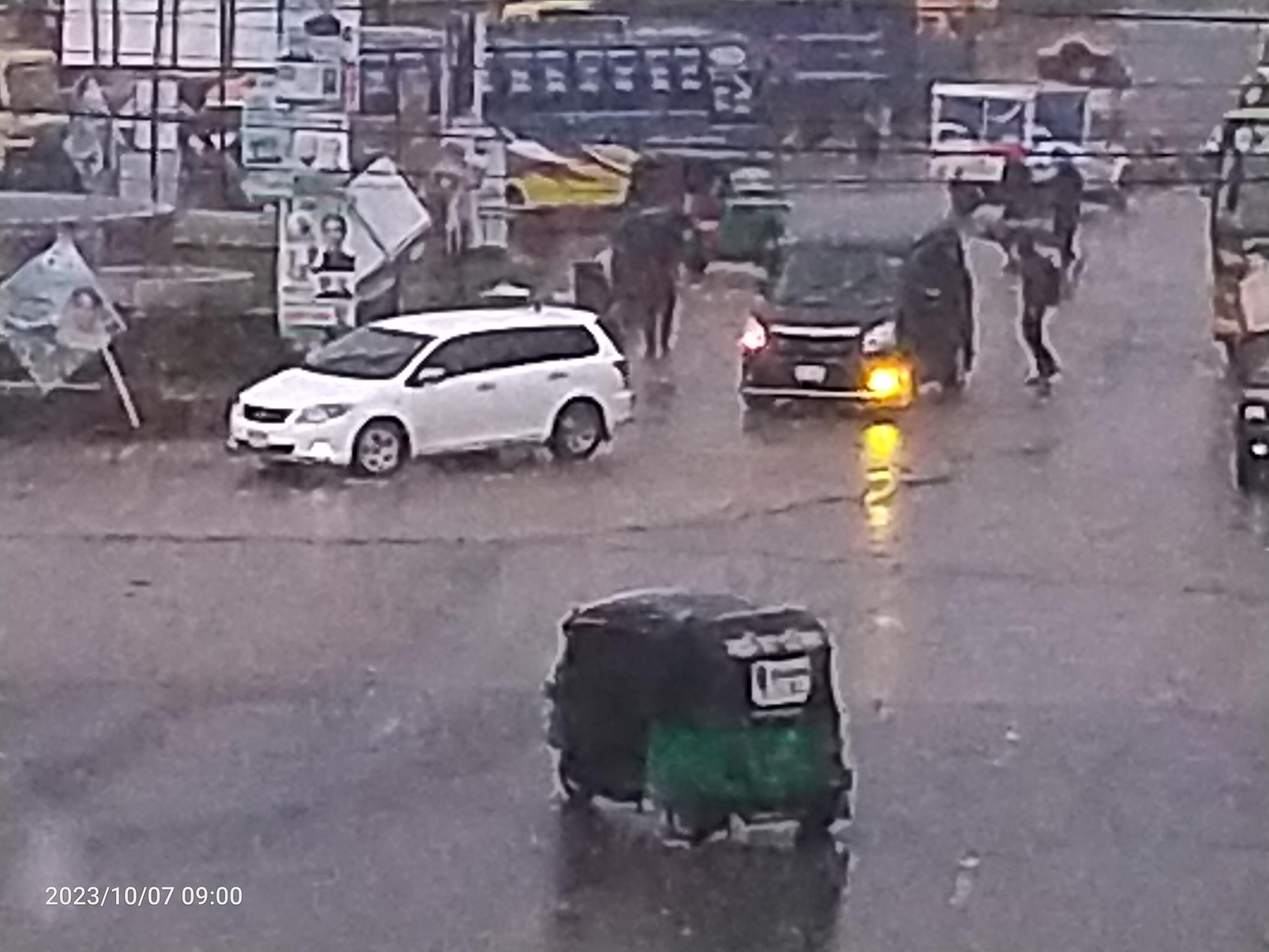Bus: (243, 18, 787, 188), (1190, 77, 1269, 364)
Car: (190, 302, 671, 517), (737, 202, 1011, 450), (900, 57, 1142, 217)
